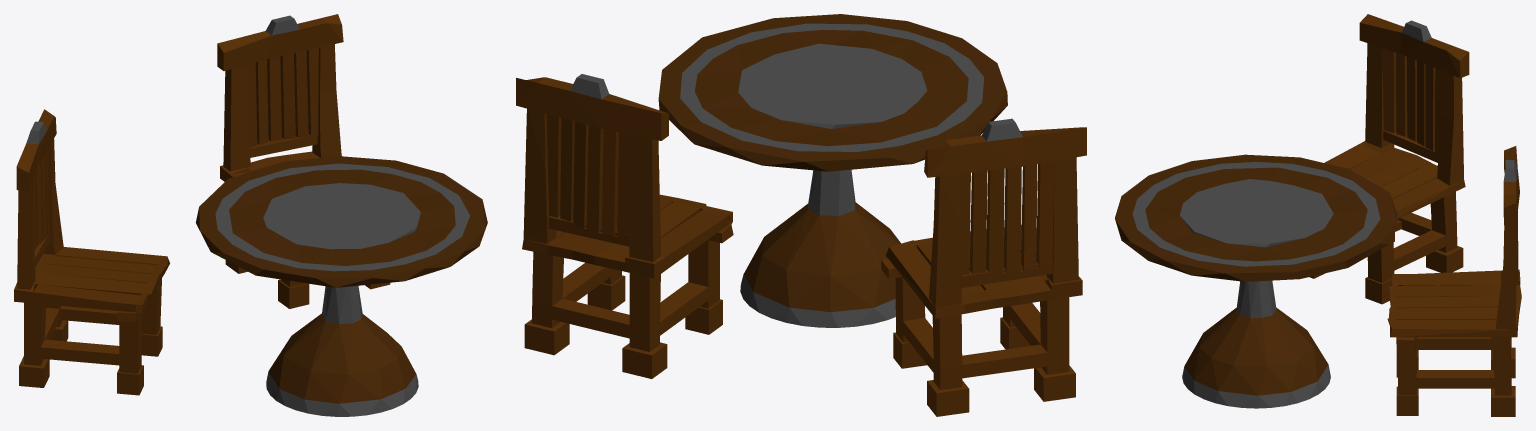
The model's file is chair resturant.fbx.
The picture shows the model from 3 angles, left to right: view 1: azimuth 30°, elevation 25°; view 2: azimuth 150°, elevation 25°; view 3: azimuth 270°, elevation 25°; orthographic projection. The views are drawn at different scales.
Visible parts, largest first — view 1: Circle.001, Cube.001, Cube; view 2: Circle.001, Cube, Cube.001; view 3: Circle.001, Cube.001, Cube.
Part boxes in pixels (bbox=[...]): Circle.001: bbox=[196, 156, 487, 416]; Cube.001: bbox=[14, 109, 169, 395]; Cube: bbox=[217, 14, 390, 308]; Circle.001: bbox=[658, 14, 1007, 327]; Cube: bbox=[516, 74, 733, 378]; Cube.001: bbox=[881, 118, 1086, 416]; Circle.001: bbox=[1115, 154, 1397, 408]; Cube.001: bbox=[1309, 14, 1469, 304]; Cube: bbox=[1387, 146, 1521, 416].
Bounding box in the file's own units: 601 × 365 × 547.
